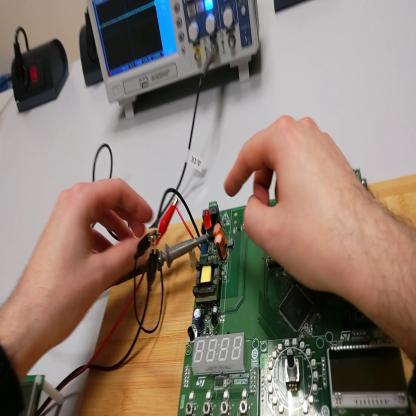hand: (227, 116, 370, 296), (21, 177, 152, 352)
low voltage board: (156, 163, 408, 415)
oscilloscope: (88, 1, 261, 121)
oscilloscope probe tip: (153, 233, 207, 272)
socket: (13, 31, 71, 112), (78, 26, 106, 92)
working area: (80, 170, 416, 416)
